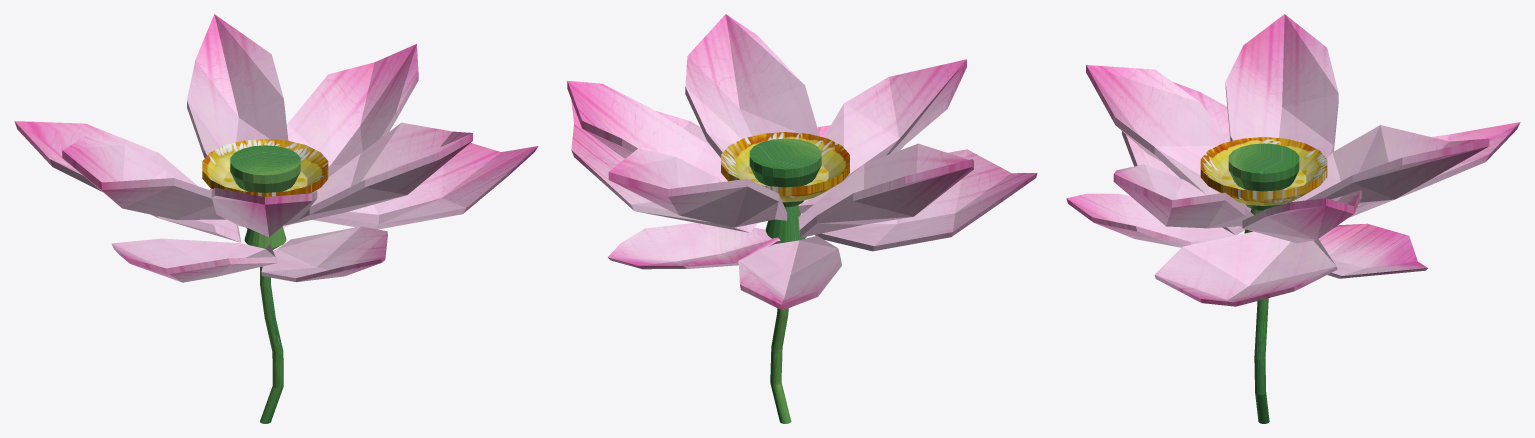
File: hehua2.FBX
The picture shows the model from 3 angles, left to right: view 1: azimuth 30°, elevation 25°; view 2: azimuth 150°, elevation 25°; view 3: azimuth 270°, elevation 25°; orthographic projection. The views are drawn at different scales.
Parts seen in each view (by area): view 1: Cylinder001; view 2: Cylinder001; view 3: Cylinder001.
Boxes of the visible parts, x1=… form: Cylinder001: x1=14, y1=14, x2=538, y2=423; Cylinder001: x1=567, y1=14, x2=1037, y2=423; Cylinder001: x1=1066, y1=14, x2=1520, y2=423.
Size of the model in its own units: 44.91 by 30.71 by 40.42.
12 materials, 12 textured.
